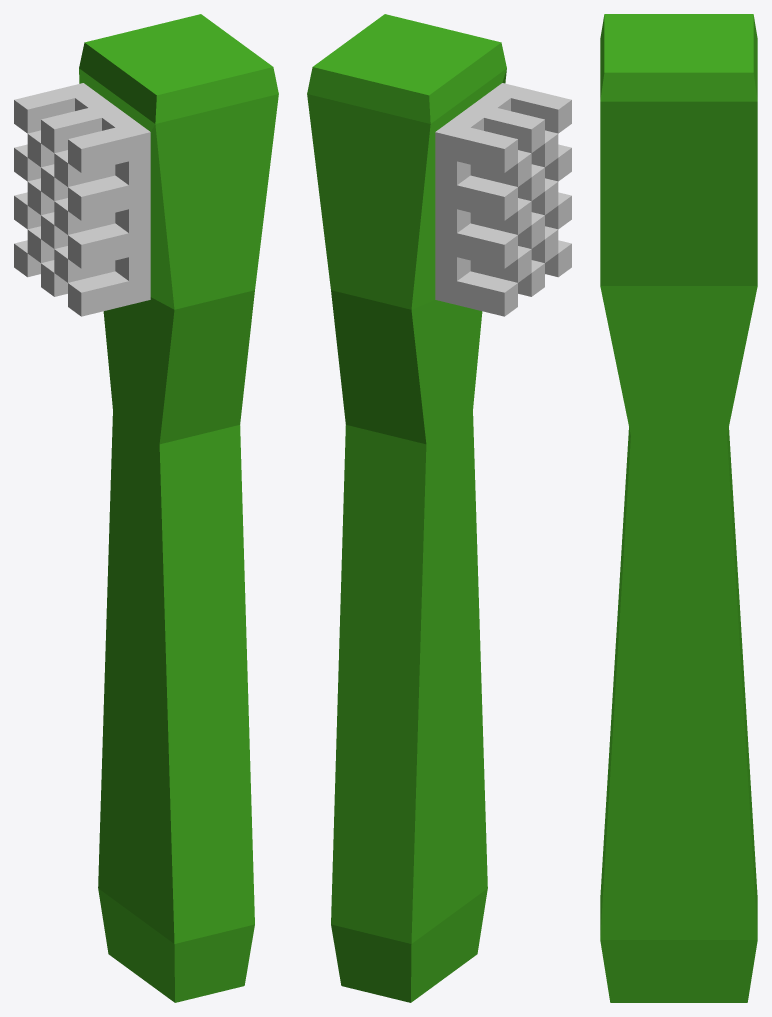
The model's file is escova-de-dente.fbx.
The picture shows the model from 3 angles, left to right: view 1: azimuth 30°, elevation 25°; view 2: azimuth 150°, elevation 25°; view 3: azimuth 270°, elevation 25°; orthographic projection. The views are drawn at different scales.
Parts seen in each view (by area): view 1: Cube; view 2: Cube; view 3: Cube.
Part boxes in pixels (x1,y1,x2,y2): Cube: (14,14,278,1002); Cube: (307,14,571,1002); Cube: (600,14,757,1002).
Size of the model in its own units: 67.24 by 305 by 46.09.
